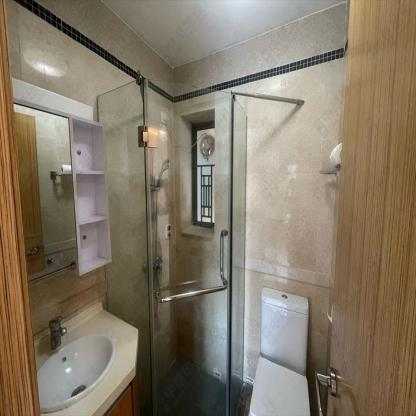Exhaust Fan: (198, 133, 215, 156)
Faucet: (45, 312, 67, 351)
Toilet: (249, 283, 311, 415)
Toilet Sink: (36, 332, 118, 411)
Water Cubicle: (99, 74, 248, 415)
